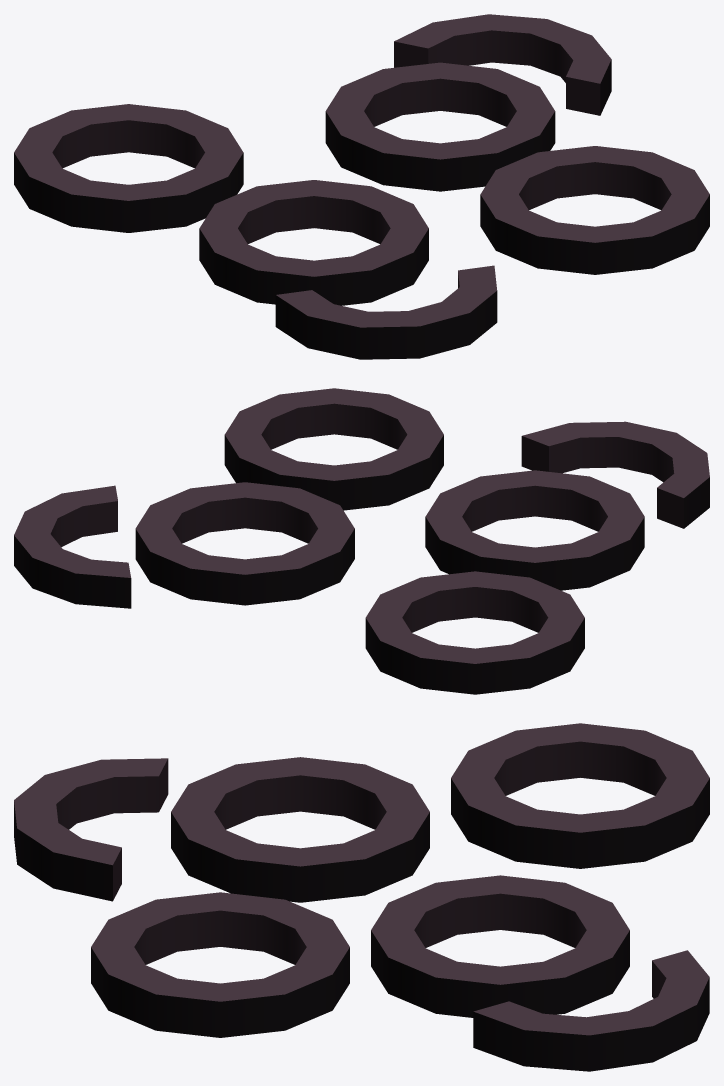
File: Olive_Slice.glb
3 renders of one model, top to bottom at view 1: azimuth 30°, elevation 25°; view 2: azimuth 150°, elevation 25°; view 3: azimuth 270°, elevation 25°, orthographic. The views are drawn at different scales.
Visible parts, largest first — view 1: Olive_Slice; view 2: Olive_Slice; view 3: Olive_Slice.
Boxes of the visible parts, box(x1,y1,x2,y2) form: Olive_Slice: box(14, 14, 709, 359); Olive_Slice: box(14, 388, 709, 694); Olive_Slice: box(14, 723, 709, 1071).
Bounding box in the file's own units: 18.47 × 1 × 17.4.
1 material, 1 textured.
